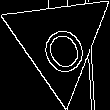O_NW: (29, 8, 89, 75)
